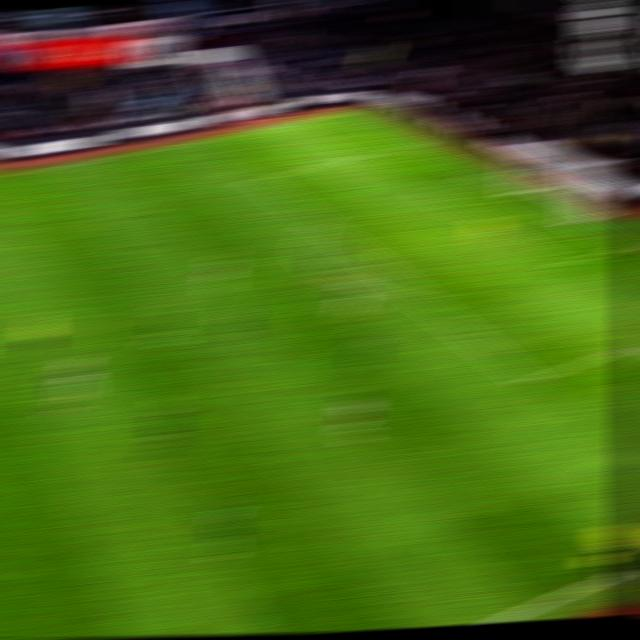bigarea_bottom_inner: (511, 366, 546, 390)
bigarea_top_inner: (242, 169, 274, 186)
bigarea_top_outter: (394, 137, 424, 150)
bottom_arc_area_intersection: (396, 282, 430, 301)
corner: (328, 105, 358, 117)
smallarea_bottom_inner: (544, 253, 578, 274)
smallarea_bottom_outter: (607, 237, 640, 255)
smallarea_top_inner: (409, 180, 439, 196)
smallarea_top_outter: (460, 167, 491, 183)
top_arc_area_intersection: (303, 214, 333, 229)
